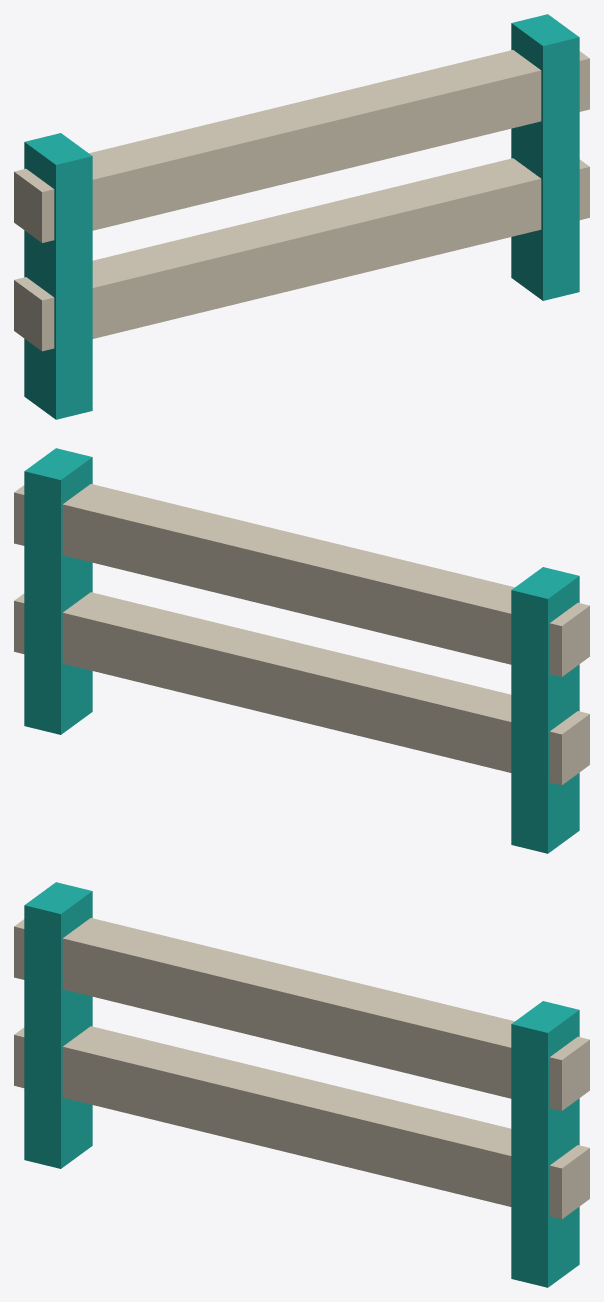
File: 26_low_fence.obj
3 renders of one model, top to bottom at view 1: azimuth 30°, elevation 25°; view 2: azimuth 150°, elevation 25°; view 3: azimuth 330°, elevation 25°, orthographic.
Parts seen in each view (by area): view 1: part_3, part_2, part_0, part_1; view 2: part_3, part_2, part_0, part_1; view 3: part_3, part_2, part_1, part_0.
Part boxes in pixels (x1,y1,x2,y2): part_3: (14,50,589,242); part_2: (14,158,589,351); part_0: (24,133,92,419); part_1: (511,14,579,300); part_3: (14,484,589,676); part_2: (14,592,589,785); part_0: (511,567,579,853); part_1: (24,448,92,734); part_3: (14,918,589,1110); part_2: (14,1026,589,1219); part_1: (511,1001,579,1287); part_0: (24,882,92,1168).
Size of the model in its own units: 1.8 by 0.8 by 0.18.
